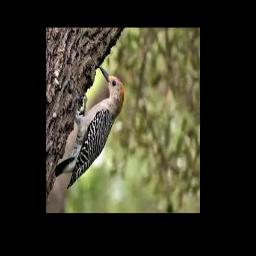Woodpecker: (55, 65, 124, 189)
